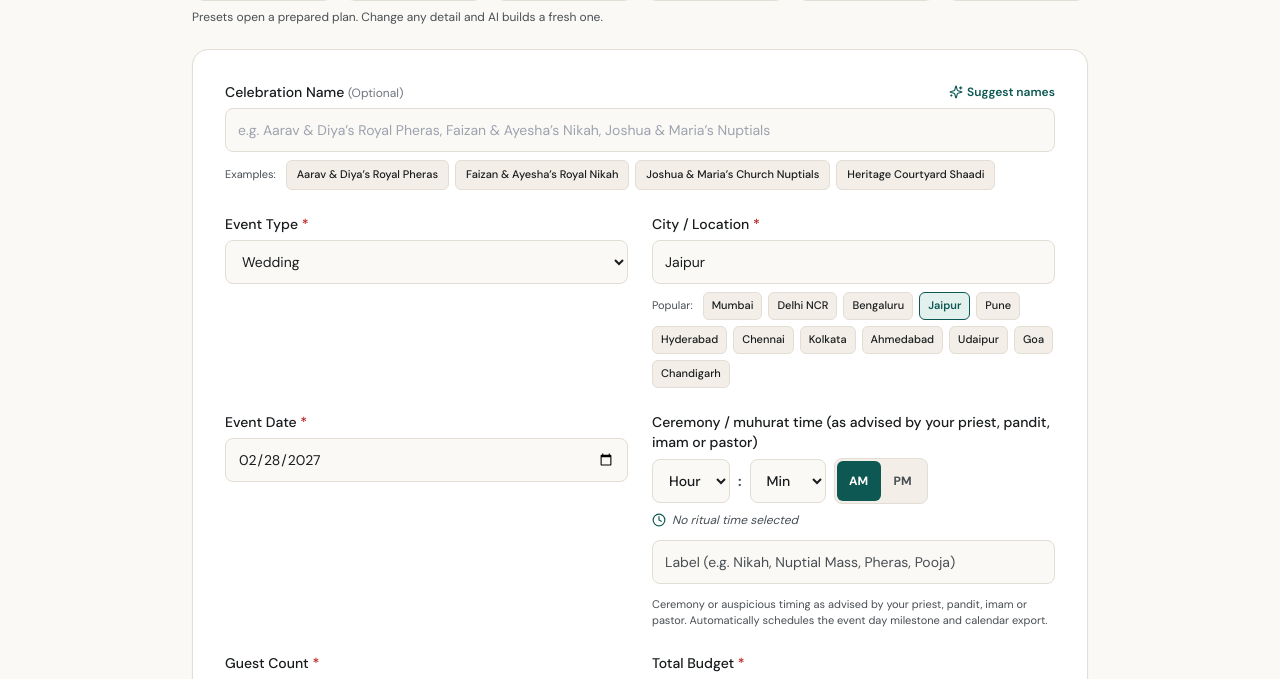
Test: IntakeForm Idea Chips & Muhurat Timing › replaces city input when a popular Indian city chip is clicked
(page scrolled)
Check: the field labelled "City / Location *" holds "Jaipur", box [652,240,1055,284]
Click the button "Mumbai".
click(733, 306)  # box [703,292,762,320]
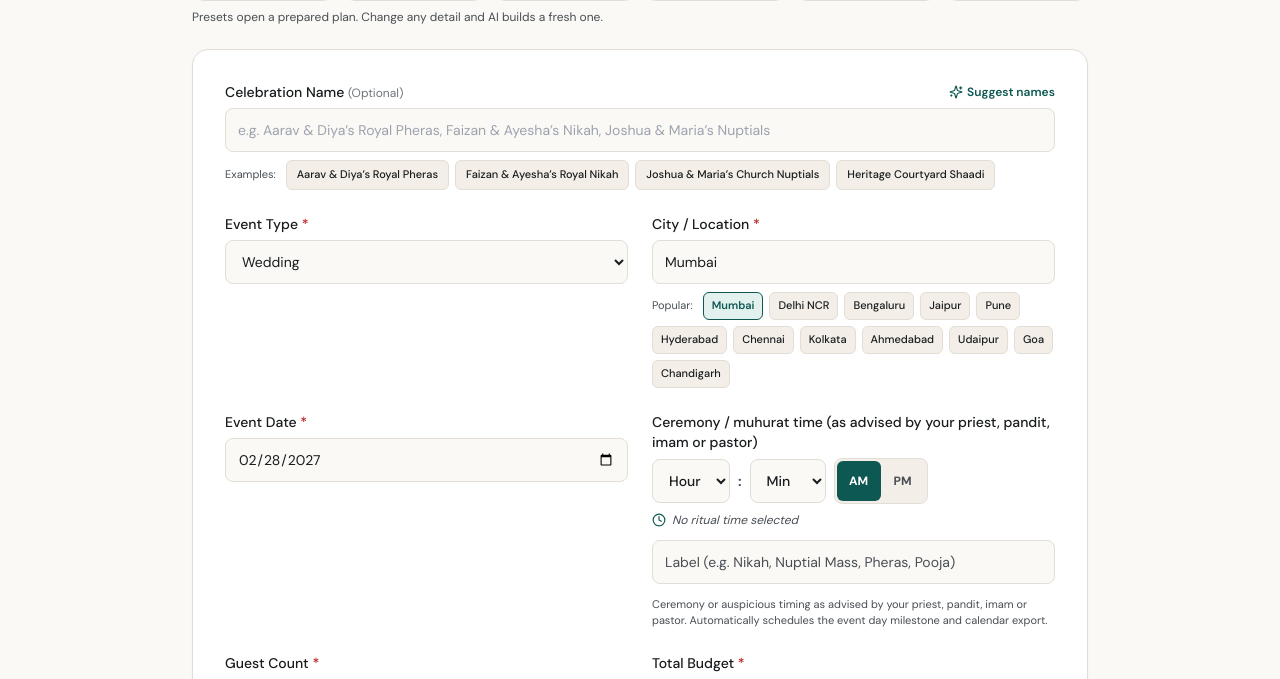
Check: the field labelled "City / Location *" holds "Mumbai", box [652,240,1055,284]
